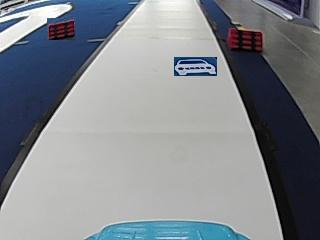bomb: (227, 27, 263, 50)
